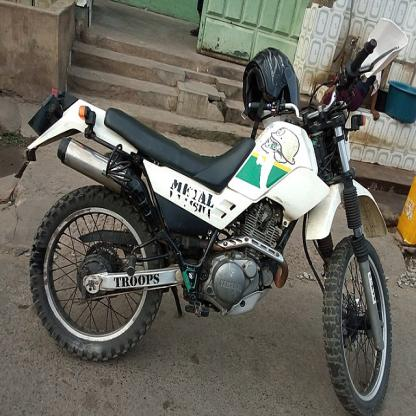bike: (28, 64, 404, 382)
